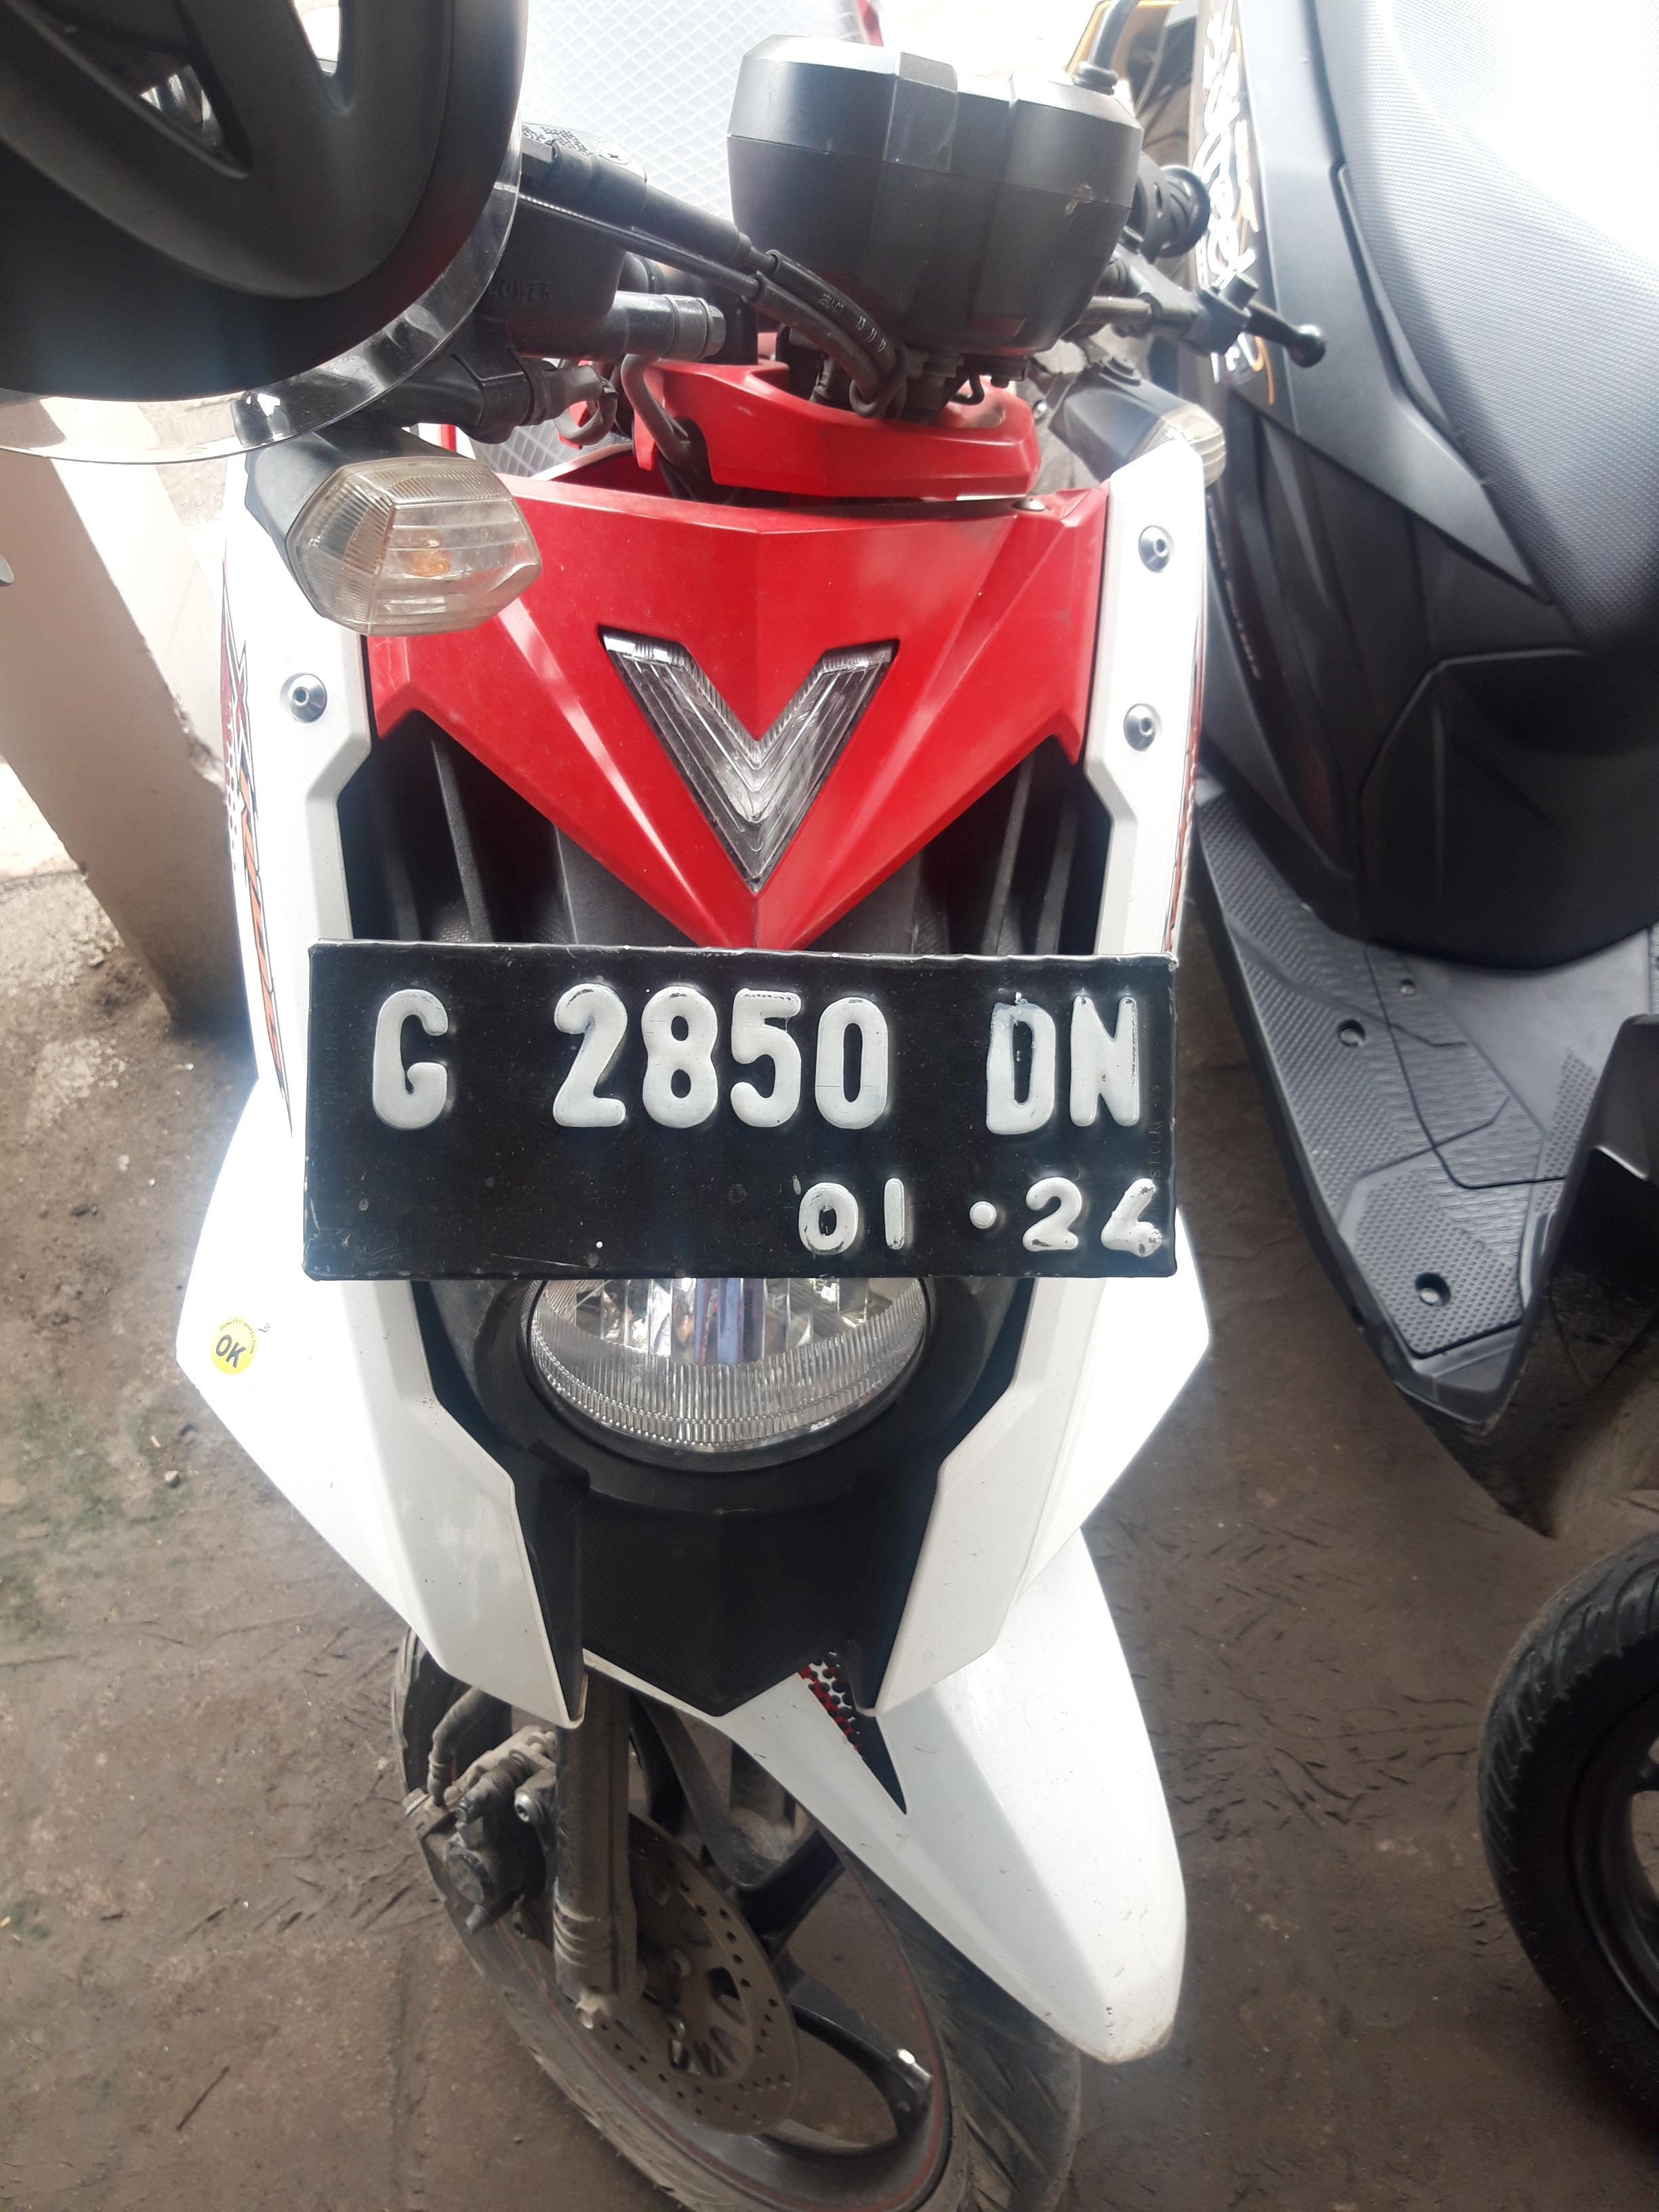clone-license-plate: (313, 943, 1183, 1287)
